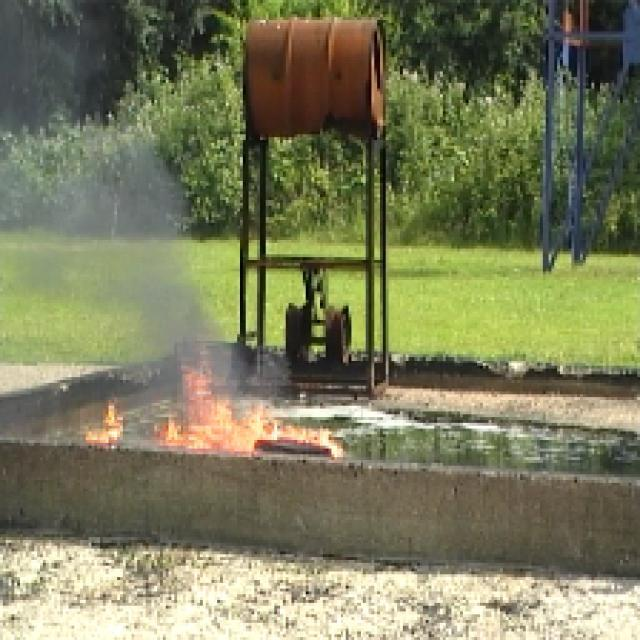Fire: (86, 388, 344, 455)
Smoke: (35, 148, 234, 378)
